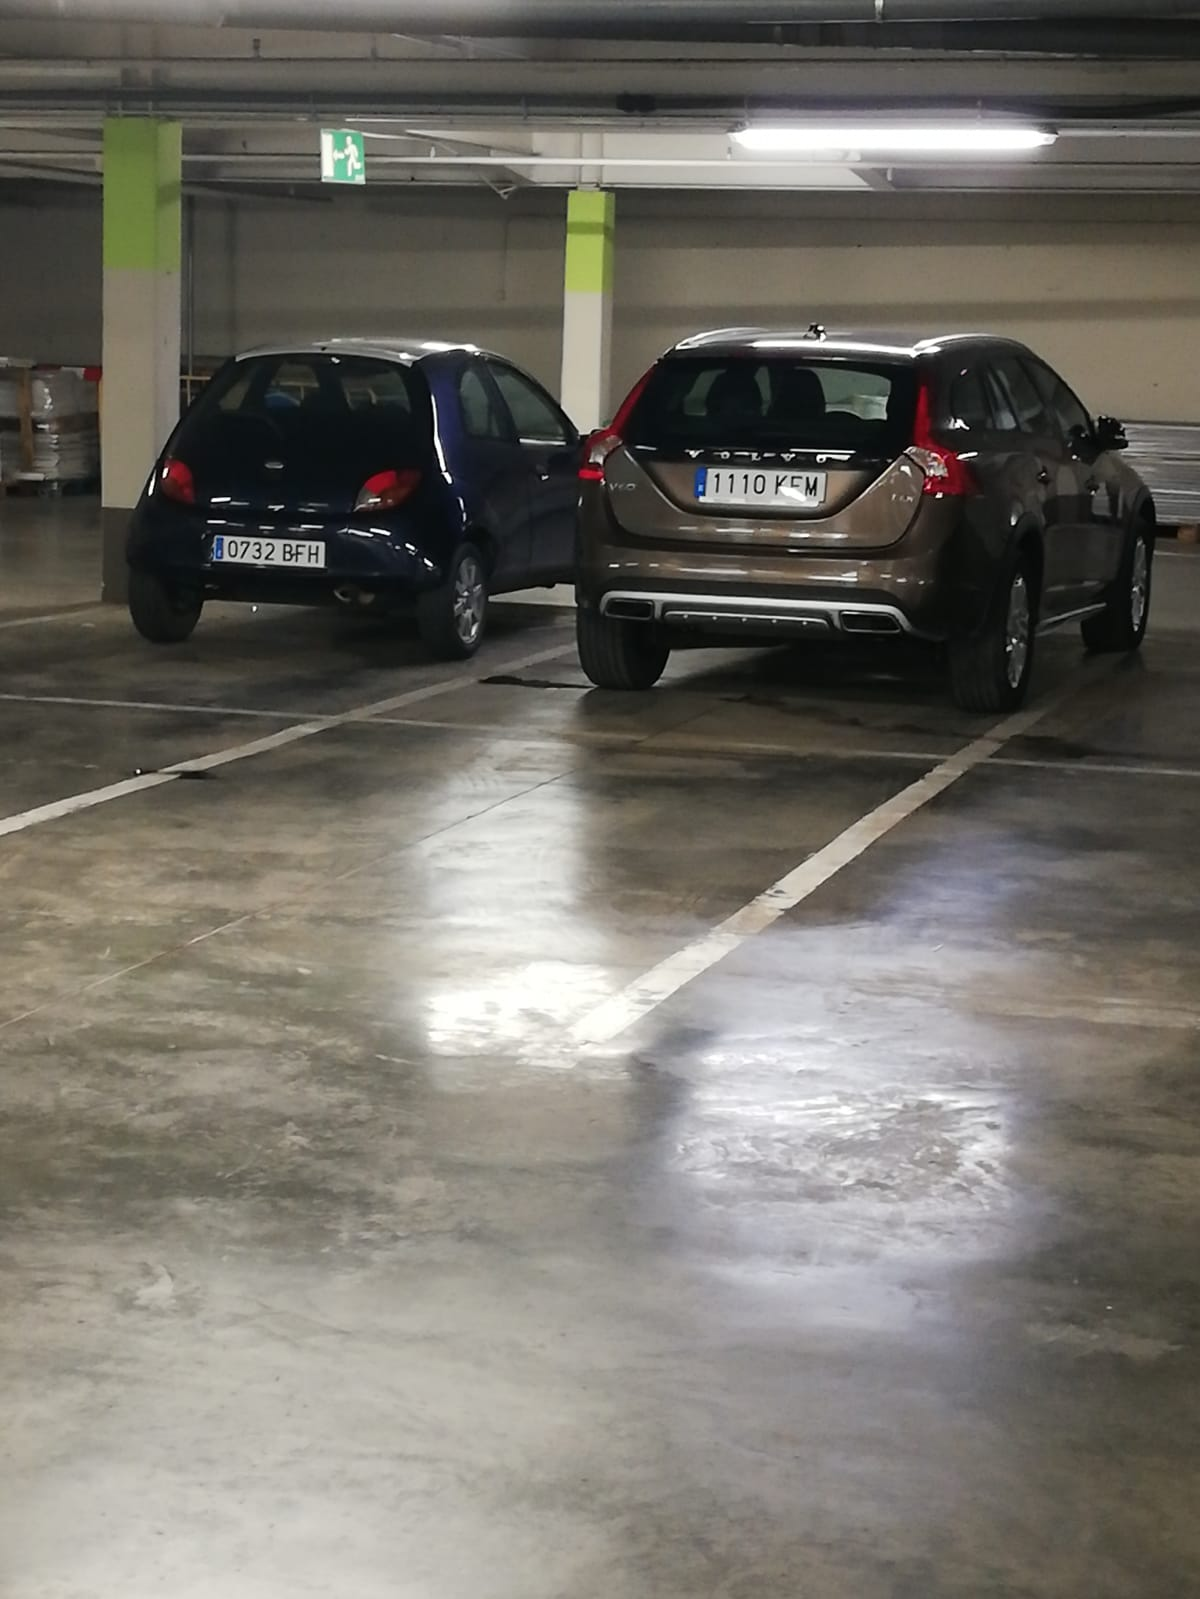Car: (573, 321, 1167, 688), (126, 327, 569, 652)
Plate: (693, 467, 821, 504), (215, 533, 326, 566)
